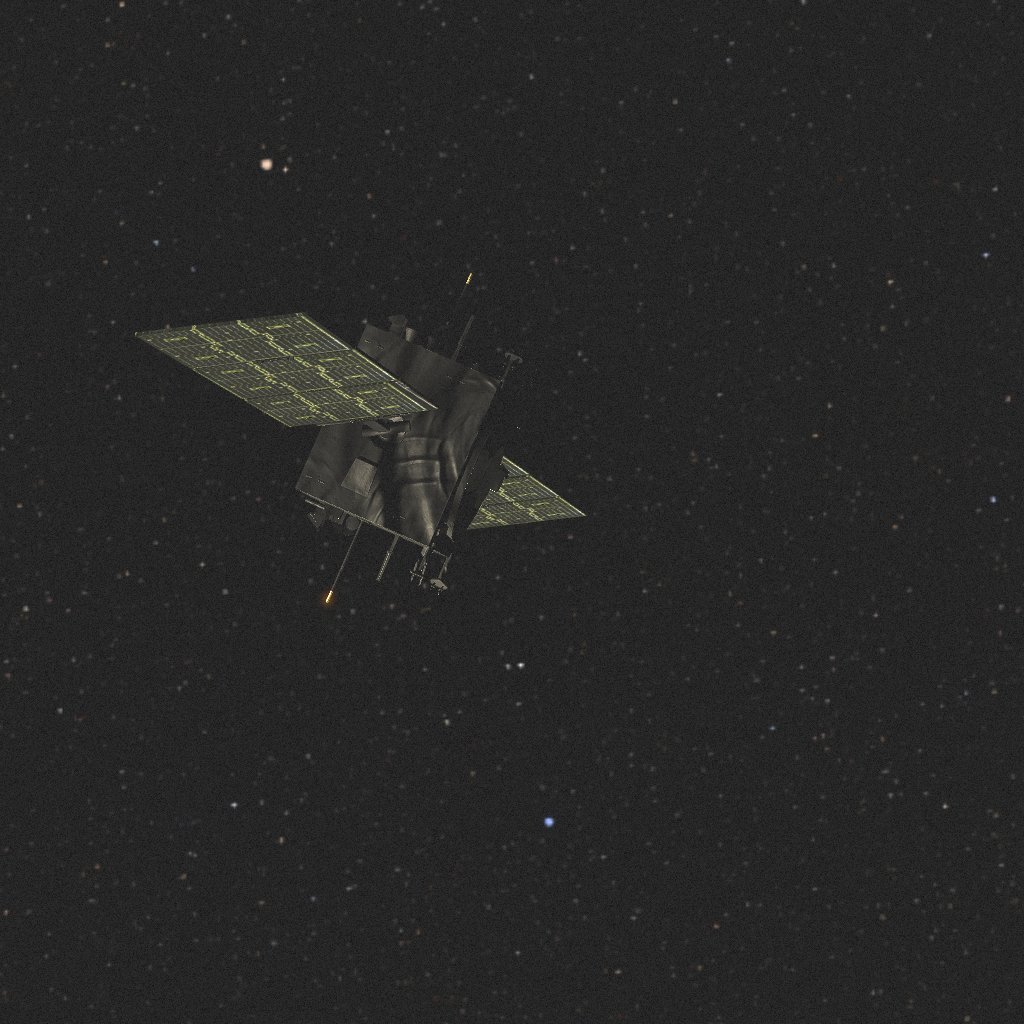smart_1: (152, 303, 601, 582)
